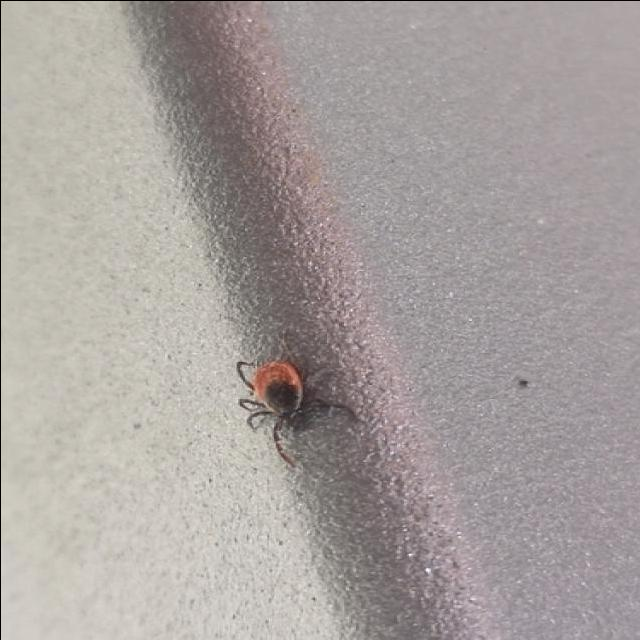Ixodes Ricinus-F: (236, 343, 365, 466)
